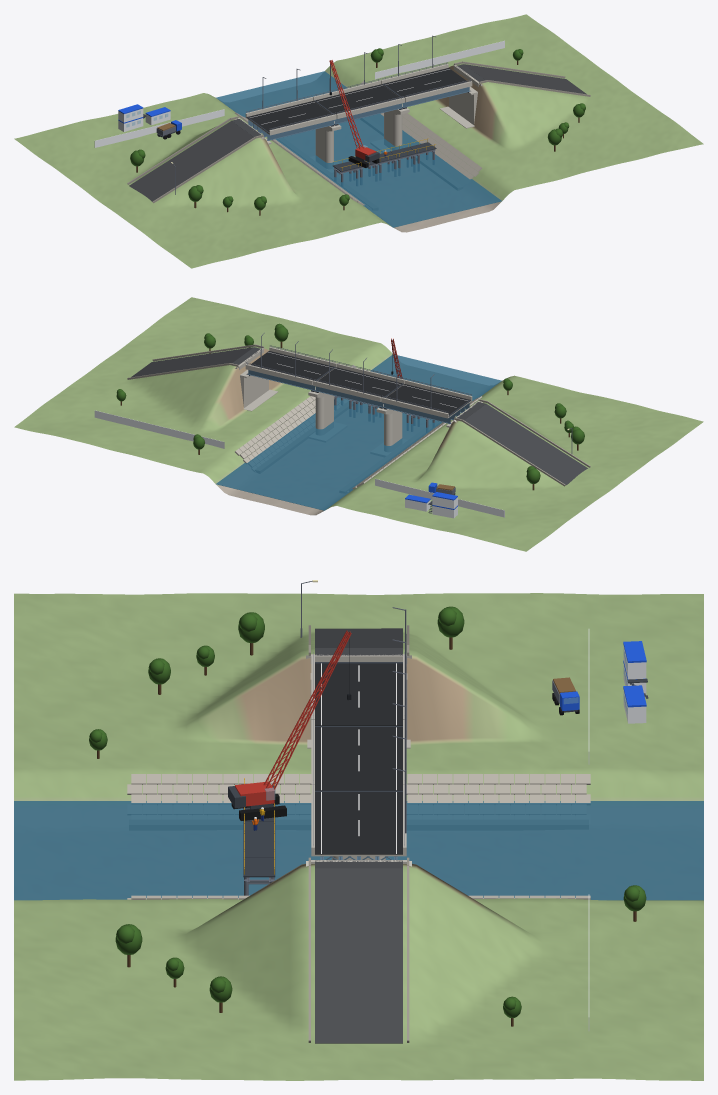
File: bridge-3span.glb
3 renders of one model, top to bottom at view 1: azimuth 30°, elevation 25°; view 2: azimuth 150°, elevation 25°; view 3: azimuth 270°, elevation 25°, orthographic. The views are drawn at different scales.
Visible parts, largest first — view 1: terrain, river-water, approach-road, superstructure#1/3 (×4), superstructure#3/3 (×2), superstructure#2/3 (×2), site-fence, approach-curb, river#6/6, river#5/6, crawler-crane-red, site-office-fence (+1 smaller); view 2: terrain, river-water, approach-road, superstructure#1/3 (×4), superstructure#2/3 (×2), superstructure#3/3 (×2), site-fence, river#4/6, approach-curb, river#5/6, site-office-fence, A2-body#3/5; view 3: terrain, river-water, approach-road, river#1/6 (×2), river#3/6 (×2), superstructure#2/3, superstructure#3/3, superstructure#1/3, river#2/6, crawler-crane-red, approach-curb.
Boxes of the visible parts, box(x1,y1,x2,y2) form: terrain: box(14, 14, 703, 268); river-water: box(216, 71, 501, 227); approach-road: box(129, 64, 586, 201); superstructure#1/3 (×4): box(245, 69, 336, 140); superstructure#3/3 (×2): box(381, 64, 472, 102); superstructure#2/3 (×2): box(313, 80, 404, 118); site-fence: box(94, 40, 504, 147); approach-curb: box(127, 61, 590, 203); river#6/6: box(425, 139, 482, 186); river#5/6: box(402, 113, 441, 156); crawler-crane-red: box(329, 60, 376, 159); site-office-fence: box(118, 108, 143, 131); terrain: box(14, 297, 703, 551); river-water: box(216, 354, 501, 510); approach-road: box(131, 347, 587, 485); superstructure#1/3 (×4): box(381, 366, 472, 423); superstructure#2/3 (×2): box(313, 363, 404, 401); superstructure#3/3 (×2): box(245, 347, 336, 385); site-fence: box(94, 410, 504, 517); river#4/6: box(235, 422, 292, 471); approach-curb: box(127, 344, 590, 486); river#5/6: box(275, 396, 315, 440); site-office-fence: box(432, 496, 457, 518); A2-body#3/5: box(242, 378, 268, 407); terrain: box(14, 593, 703, 1080); river-water: box(14, 801, 703, 900); approach-road: box(315, 628, 402, 1043); river#1/6 (×2): box(434, 774, 590, 829); river#3/6 (×2): box(127, 774, 283, 829); superstructure#2/3: box(315, 727, 402, 790); superstructure#3/3: box(315, 792, 402, 854); superstructure#1/3: box(315, 663, 402, 725); river#2/6: box(280, 774, 437, 818); crawler-crane-red: box(235, 630, 351, 806); approach-curb: box(308, 625, 409, 1042).
Size of the model in its own units: 150 by 43.42 by 90.
